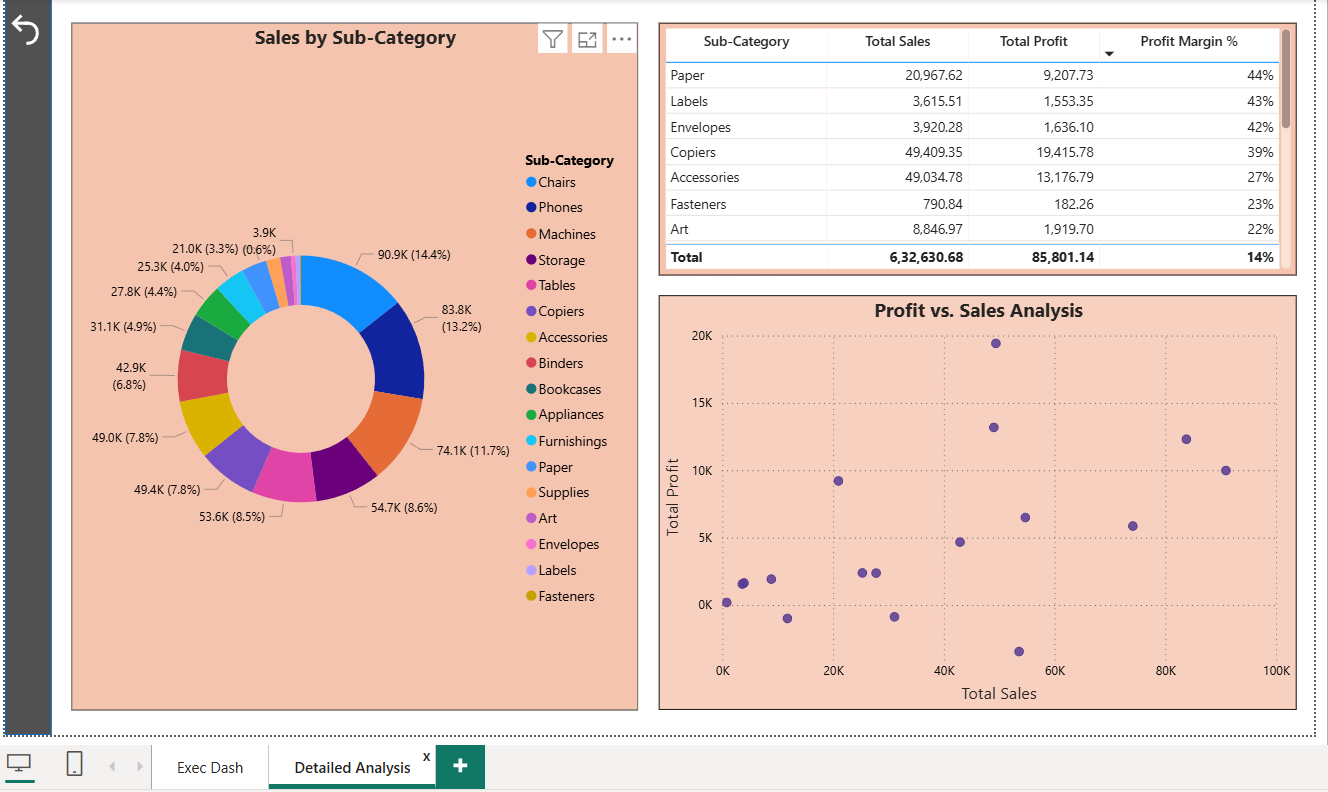

Layout of this report page (visuals, bound fields, positions):
{"tool":"powerbi","page":{"name":"Detailed Analysis","canvas":[1280,720],"ordinal":1},"visuals":[{"type":"donutChart","title":"Sales by Sub-Category","fields":{"Category":["Superstore Sales.Sub-Category"],"Y":["Superstore Sales.Total Sales"]},"box":[64.3,22.9,554.3,672.9],"z":0},{"type":"tableEx","fields":{"Values":["Superstore Sales.Sub-Category","Superstore Sales.Total Sales","Superstore Sales.Total Profit","Superstore Sales.Profit Margin %"]},"box":[640,22.9,624.3,247.1],"z":1000},{"type":"scatterChart","title":"Profit vs. Sales Analysis","fields":{"X":["Superstore Sales.Total Sales"],"Y":["Superstore Sales.Total Profit"],"Category":["Superstore Sales.Sub-Category"]},"box":[640,290,624.3,405.7],"z":2000},{"type":"shape","box":[0,0,45.7,720],"z":2001},{"type":"actionButton","box":[0,10,45.7,40],"z":2002}]}

Visuals, with their boxes in screenshot pixels (x1, y1, x2, y2):
"Sales by Sub-Category" donutChart: [x1=66, y1=20, x2=633, y2=708]
tableEx - Superstore Sales.Sub-Category x Superstore Sales.Total Sales: [x1=655, y1=20, x2=1294, y2=273]
"Profit vs. Sales Analysis" scatterChart: [x1=655, y1=293, x2=1294, y2=708]
shape: [x1=0, y1=0, x2=47, y2=733]
actionButton: [x1=0, y1=7, x2=47, y2=48]
